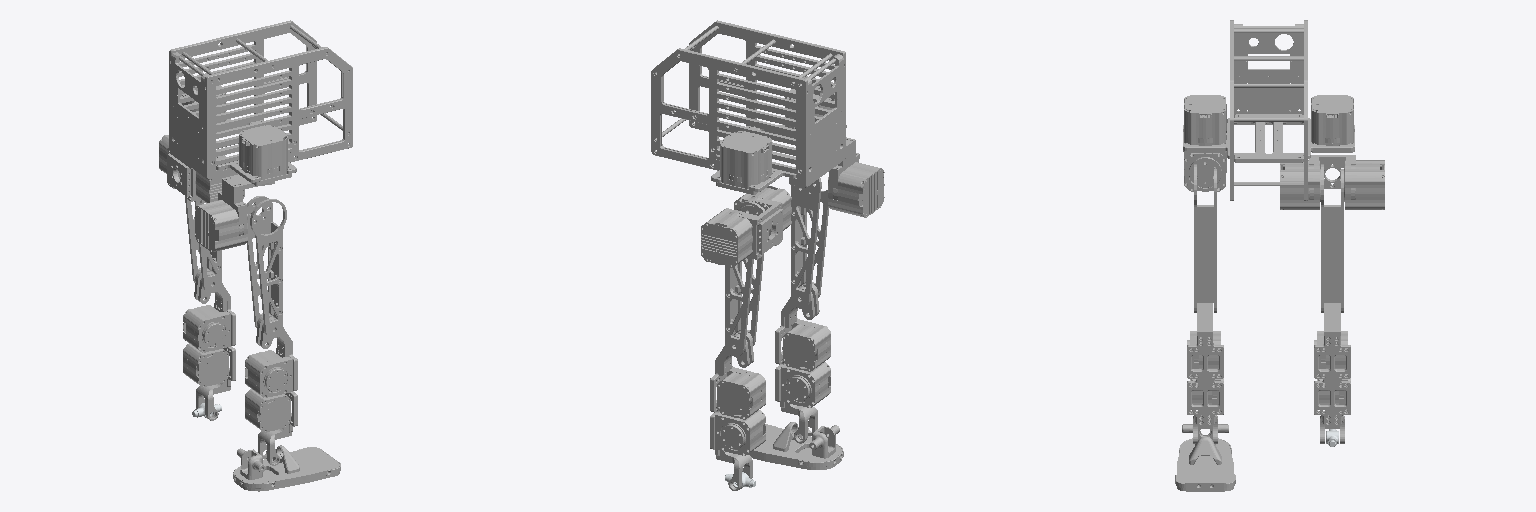
robot.urdf — pai_2_12_240715:
<?xml version="1.0" encoding="utf-8"?>
<!--
This URDF was automatically created by SolidWorks to URDF Exporter! Originally created by [author] ([email redacted])
Commit Version: 1.6.0-4-g7f85cfe  Build Version: 1.6.7995.38578
For more information, please see http://wiki.ros.org/sw_urdf_exporter
-->
<robot name="pai_2_12_240715">
	<link name="base_link">
		<inertial>
			<origin xyz="0.02264846 -0.00004298 0.03856462" rpy="0 0 0" />
			<mass value="0.767987723282303" />
			<inertia ixx="0.00715641" ixy="-0.00000351" ixz="-0.00040457" iyy="0.00754610" iyz="0.00000400" izz="0.00985603" />
		</inertial>
		<visual>
			<origin xyz="0 0 0" rpy="0 0 0" />
			<geometry>
				<mesh filename="package://pai_2_12_240715/meshes/base_link.STL" />
			</geometry>
			<material name="">
				<color rgba="0.752941176470588 0.752941176470588 0.752941176470588 1" />
			</material>
		</visual>
		<collision>
			<origin xyz="0 0 0" rpy="0 0 0" />
			<geometry>
				<mesh filename="package://pai_2_12_240715/meshes/base_link.STL" />
			</geometry>
		</collision>
	</link>
	<link name="r_kuan_link">
		<inertial>
			<origin xyz="-0.05302 -6.9044E-05 -0.049742" rpy="0 0 0" />
			<mass value="0.41495" />
			<inertia ixx="0.00014662" ixy="3.1568E-08" ixz="1.0089E-06" iyy="9.0268E-05" iyz="-5.5058E-07" izz="9.3499E-05" />
		</inertial>
		<visual>
			<origin xyz="0 0 0" rpy="0 0 0" />
			<geometry>
				<mesh filename="package://pai_2_12_240715/meshes/r_kuan_link.STL" />
			</geometry>
			<material name="">
				<color rgba="0.75294 0.75294 0.75294 1" />
			</material>
		</visual>
		<collision>
			<origin xyz="0 0 0" rpy="0 0 0" />
			<geometry>
				<mesh filename="package://pai_2_12_240715/meshes/r_kuan_link.STL" />
			</geometry>
		</collision>
	</link>
	<joint name="r_kuan_joint" type="revolute">
		<origin xyz="-0.00312500000000175 -0.0749999999999948 -0.00900000000000054" rpy="0 0 0" />
		<parent link="base_link" />
		<child link="r_kuan_link" />
		<axis xyz="0 0 1" />
		<limit lower="-3.14" upper="3.14" effort="21" velocity="21" />
	</joint>
	<link name="r_kuan2_link">
		<inertial>
			<origin xyz="-0.00165182311958494 2.22472734678902E-11 9.01459013308153E-05" rpy="0 0 0" />
			<mass value="0.754052172373753" />
			<inertia ixx="0.000172300621783178" ixy="-1.00230457516306E-13" ixz="4.85738731803001E-08" iyy="0.000284991278195394" iyz="-6.30364775234662E-08" izz="0.000168111256664181" />
		</inertial>
		<visual>
			<origin xyz="0 0 0" rpy="0 0 0" />
			<geometry>
				<mesh filename="package://pai_2_12_240715/meshes/r_kuan2_link.STL" />
			</geometry>
			<material name="">
				<color rgba="0.752941176470588 0.752941176470588 0.752941176470588 1" />
			</material>
		</visual>
		<collision>
			<origin xyz="0 0 0" rpy="0 0 0" />
			<geometry>
				<mesh filename="package://pai_2_12_240715/meshes/r_kuan2_link.STL" />
			</geometry>
		</collision>
	</link>
	<joint name="r_kuan2_joint" type="revolute">
		<origin xyz="0 0 -0.0559999999999995" rpy="0 0 0" />
		<parent link="r_kuan_link" />
		<child link="r_kuan2_link" />
		<axis xyz="1 0 0" />
		<limit lower="-3.14" upper="3.14" effort="21" velocity="21" />
	</joint>
	<link name="r_thigh_link">
		<inertial>
			<origin xyz="0.00012218 -0.00135823 -0.06908333" rpy="0 0 0" />
			<mass value="0.21894101" />
			<inertia ixx="0.00076454" ixy="0.00000004" ixz="0.00000008" iyy="0.00077056" iyz="0.00002142" izz="0.00004054" />
		</inertial>
		<visual>
			<origin xyz="0 0 0" rpy="0 0 0" />
			<geometry>
				<mesh filename="package://pai_2_12_240715/meshes/r_thigh_link.STL" />
			</geometry>
			<material name="">
				<color rgba="0.752941176470588 0.752941176470588 0.752941176470588 1" />
			</material>
		</visual>
		<collision>
			<origin xyz="0 0 0" rpy="0 0 0" />
			<geometry>
				<mesh filename="package://pai_2_12_240715/meshes/r_thigh_link.STL" />
			</geometry>
		</collision>
	</link>
	<joint name="r_thigh_joint" type="revolute">
		<origin xyz="0 0 0" rpy="0 0 0" />
		<parent link="r_kuan2_link" />
		<child link="r_thigh_link" />
		<axis xyz="0 -1 0" />
		<limit lower="-3.14" upper="3.14" effort="21" velocity="21" />
	</joint>
	<link name="r_calf_link">
		<inertial>
			<origin xyz="-0.00242534 0.00004312 -0.09732545" rpy="0 0 0" />
			<mass value="0.94531081" />
			<inertia ixx="0.00125228" ixy="0.00000083" ixz="-0.00009452" iyy="0.00124644" iyz="-0.00006385" izz="0.00023470" />
		</inertial>
		<visual>
			<origin xyz="0 0 0" rpy="0 0 0" />
			<geometry>
				<mesh filename="package://pai_2_12_240715/meshes/r_calf_link.STL" />
			</geometry>
			<material name="">
				<color rgba="0.752941176470588 0.752941176470588 0.752941176470588 1" />
			</material>
		</visual>
		<collision>
			<origin xyz="0 0 0" rpy="0 0 0" />
			<geometry>
				<mesh filename="package://pai_2_12_240715/meshes/r_calf_link.STL" />
			</geometry>
		</collision>
	</link>
	<joint name="r_calf_joint" type="revolute">
		<origin xyz="0.00750000000000106 0 -0.149812382665787" rpy="0 0 0" />
		<parent link="r_thigh_link" />
		<child link="r_calf_link" />
		<axis xyz="0 1 0" />
		<limit lower="-3.14" upper="3.14" effort="21" velocity="21" />
	</joint>
	<link name="r_ankle_link">
		<inertial>
			<origin xyz="-1.6509E-07 -3.5454E-07 1.0424E-08" rpy="0 0 0" />
			<mass value="0.01180204" />
			<inertia ixx="0.00000047" ixy="8.2515E-14" ixz="-8.8688E-13" iyy="0.00000111" iyz="1.3362E-12" izz="0.00000121" />
		</inertial>
		<visual>
			<origin xyz="0 0 0" rpy="0 0 0" />
			<geometry>
				<mesh filename="package://pai_2_12_240715/meshes/r_ankle_link.STL" />
			</geometry>
			<material name="">
				<color rgba="0.89804 0.91765 0.92941 1" />
			</material>
		</visual>
		<collision>
			<origin xyz="0 0 0" rpy="0 0 0" />
			<geometry>
				<mesh filename="package://pai_2_12_240715/meshes/r_ankle_link.STL" />
			</geometry>
		</collision>
	</link>
	<joint name="r_ankle_joint" type="revolute">
		<origin xyz="0 0 -0.17495" rpy="0 0 0" />
		<parent link="r_calf_link" />
		<child link="r_ankle_link" />
		<axis xyz="0 -1 0" />
		<limit lower="-3.14" upper="3.14" effort="21" velocity="21" />
	</joint>
	<link name="r_foot_link">
		<inertial>
			<origin xyz="0.01979902 0.00000141 -0.02023932" rpy="0 0 0" />
			<mass value="0.18592619" />
			<inertia ixx="0.00006786" ixy="0.00000000" ixz="0.00001824" iyy="0.00024654" iyz="0.00000000" izz="0.00028950" />
		</inertial>
		<visual>
			<origin xyz="0 0 0" rpy="0 0 0" />
			<geometry>
				<mesh filename="package://pai_2_12_240715/meshes/r_foot_link.STL" />
			</geometry>
			<material name="">
				<color rgba="0.752941176470588 0.752941176470588 0.752941176470588 1" />
			</material>
		</visual>
		<collision>
			<origin xyz="0 0 0" rpy="0 0 0" />
			<geometry>
				<mesh filename="package://pai_2_12_240715/meshes/r_foot_link.STL" />
			</geometry>
		</collision>
	</link>
	<joint name="r_foot_joint" type="revolute">
		<origin xyz="0 0 0" rpy="0 0 0" />
		<parent link="r_ankle_link" />
		<child link="r_foot_link" />
		<axis xyz="-1 0 0" />
		<limit lower="-3.14" upper="3.14" effort="21" velocity="21" />
	</joint>
	<link name="l_kuan_link">
		<inertial>
			<origin xyz="-0.05302 -6.9044E-05 -0.049742" rpy="0 0 0" />
			<mass value="0.41495" />
			<inertia ixx="0.00014662" ixy="3.1568E-08" ixz="1.0089E-06" iyy="9.0268E-05" iyz="-5.5058E-07" izz="9.3499E-05" />
		</inertial>
		<visual>
			<origin xyz="0 0 0" rpy="0 0 0" />
			<geometry>
				<mesh filename="package://pai_2_12_240715/meshes/l_kuan_link.STL" />
			</geometry>
			<material name="">
				<color rgba="0.75294 0.75294 0.75294 1" />
			</material>
		</visual>
		<collision>
			<origin xyz="0 0 0" rpy="0 0 0" />
			<geometry>
				<mesh filename="package://pai_2_12_240715/meshes/l_kuan_link.STL" />
			</geometry>
		</collision>
	</link>
	<joint name="l_kuan_joint" type="revolute">
		<origin xyz="-0.00312500000000005 0.0750000000000056 -0.00900000000000056" rpy="0 0 0" />
		<parent link="base_link" />
		<child link="l_kuan_link" />
		<axis xyz="0 0 1" />
		<limit lower="-3.14" upper="3.14" effort="21" velocity="21" />
	</joint>
	<link name="l_kuan2_link">
		<inertial>
			<origin xyz="-0.00165182311958486 2.2247287345678E-11 9.01459013308153E-05" rpy="0 0 0" />
			<mass value="0.754052172373753" />
			<inertia ixx="0.000172300621783178" ixy="-1.00230445305323E-13" ixz="4.85738731803103E-08" iyy="0.000284991278195395" iyz="-6.30364775234683E-08" izz="0.000168111256664181" />
		</inertial>
		<visual>
			<origin xyz="0 0 0" rpy="0 0 0" />
			<geometry>
				<mesh filename="package://pai_2_12_240715/meshes/l_kuan2_link.STL" />
			</geometry>
			<material name="">
				<color rgba="0.752941176470588 0.752941176470588 0.752941176470588 1" />
			</material>
		</visual>
		<collision>
			<origin xyz="0 0 0" rpy="0 0 0" />
			<geometry>
				<mesh filename="package://pai_2_12_240715/meshes/l_kuan2_link.STL" />
			</geometry>
		</collision>
	</link>
	<joint name="l_kuan2_joint" type="revolute">
		<origin xyz="0 0 -0.056" rpy="0 0 0" />
		<parent link="l_kuan_link" />
		<child link="l_kuan2_link" />
		<axis xyz="1 0 0" />
		<limit lower="-3.14" upper="3.14" effort="21" velocity="21" />
	</joint>
	<link name="l_thigh_link">
		<inertial>
			<origin xyz="0.00012218 -0.00135823 -0.06908333" rpy="0 0 0" />
			<mass value="0.21894101" />
			<inertia ixx="0.00076454" ixy="0.00000004" ixz="0.00000008" iyy="0.00077056" iyz="0.00002142" izz="0.00004054" />
		</inertial>
		<visual>
			<origin xyz="0 0 0" rpy="0 0 0" />
			<geometry>
				<mesh filename="package://pai_2_12_240715/meshes/l_thigh_link.STL" />
			</geometry>
			<material name="">
				<color rgba="0.752941176470588 0.752941176470588 0.752941176470588 1" />
			</material>
		</visual>
		<collision>
			<origin xyz="0 0 0" rpy="0 0 0" />
			<geometry>
				<mesh filename="package://pai_2_12_240715/meshes/l_thigh_link.STL" />
			</geometry>
		</collision>
	</link>
	<joint name="l_thigh_joint" type="revolute">
		<origin xyz="0 0 0" rpy="0 0 0" />
		<parent link="l_kuan2_link" />
		<child link="l_thigh_link" />
		<axis xyz="0 -1 0" />
		<limit lower="-3.14" upper="3.14" effort="21" velocity="21" />
	</joint>
	<link name="l_calf_link">
		<inertial>
			<origin xyz="-0.00242534 0.00004312 -0.09732545" rpy="0 0 0" />
			<mass value="0.94531081" />
			<inertia ixx="0.00125228" ixy="0.00000083" ixz="-0.00009452" iyy="0.00124644" iyz="-0.00006385" izz="0.00023470" />
		</inertial>
		<visual>
			<origin xyz="0 0 0" rpy="0 0 0" />
			<geometry>
				<mesh filename="package://pai_2_12_240715/meshes/l_calf_link.STL" />
			</geometry>
			<material name="">
				<color rgba="0.75294 0.75294 0.75294 1" />
			</material>
		</visual>
		<collision>
			<origin xyz="0 0 0" rpy="0 0 0" />
			<geometry>
				<mesh filename="package://pai_2_12_240715/meshes/l_calf_link.STL" />
			</geometry>
		</collision>
	</link>
	<joint name="l_calf_joint" type="revolute">
		<origin xyz="0.00750000000000105 0 -0.149812382665786" rpy="0 0 0" />
		<parent link="l_thigh_link" />
		<child link="l_calf_link" />
		<axis xyz="0 1 0" />
		<limit lower="-3.14" upper="3.14" effort="21" velocity="21" />
	</joint>
	<link name="l_ankle_link">
		<inertial>
			<origin xyz="-1.6509E-07 -3.5454E-07 1.0424E-08" rpy="0 0 0" />
			<mass value="0.01180204" />
			<inertia ixx="0.00000047" ixy="8.2515E-14" ixz="-8.8688E-13" iyy="0.00000111" iyz="1.3362E-12" izz="0.00000121" />
		</inertial>
		<visual>
			<origin xyz="0 0 0" rpy="0 0 0" />
			<geometry>
				<mesh filename="package://pai_2_12_240715/meshes/l_ankle_link.STL" />
			</geometry>
			<material name="">
				<color rgba="0.898039215686275 0.917647058823529 0.929411764705882 1" />
			</material>
		</visual>
		<collision>
			<origin xyz="0 0 0" rpy="0 0 0" />
			<geometry>
				<mesh filename="package://pai_2_12_240715/meshes/l_ankle_link.STL" />
			</geometry>
		</collision>
	</link>
	<joint name="l_ankle_joint" type="revolute">
		<origin xyz="0 0 -0.17495" rpy="0 0 0" />
		<parent link="l_calf_link" />
		<child link="l_ankle_link" />
		<axis xyz="0 -1 0" />
		<limit lower="-3.14" upper="3.14" effort="21" velocity="21" />
	</joint>
	<link name="l_foot_link">
		<inertial>
			<origin xyz="0.01979902 0.00000141 -0.02023932" rpy="0 0 0" />
			<mass value="0.18592619" />
			<inertia ixx="0.00006786" ixy="0.00000000" ixz="0.00001824" iyy="0.00024654" iyz="0.00000000" izz="0.00028950" />
		</inertial>
		<visual>
			<origin xyz="0 0 0" rpy="0 0 0" />
			<geometry>
				<mesh filename="package://pai_2_12_240715/meshes/l_foot_link.STL" />
			</geometry>
			<material name="">
				<color rgba="0.752941176470588 0.752941176470588 0.752941176470588 1" />
			</material>
		</visual>
		<collision>
			<origin xyz="0 0 0" rpy="0 0 0" />
			<geometry>
				<mesh filename="package://pai_2_12_240715/meshes/l_foot_link.STL" />
			</geometry>
		</collision>
	</link>
	<joint name="l_foot_joint" type="revolute">
		<origin xyz="0 0 0" rpy="0 0 0" />
		<parent link="l_ankle_link" />
		<child link="l_foot_link" />
		<axis xyz="-1 0 0" />
		<limit lower="-3.14" upper="3.14" effort="21" velocity="21" />
	</joint>
</robot>

--- Render facts (derived) ---
The picture shows the robot from 3 angles, left to right: view 1: azimuth 30°, elevation 25°; view 2: azimuth 150°, elevation 25°; view 3: azimuth 270°, elevation 25°; orthographic projection.
Robot: pai_2_12_240715 — 13 links, 12 joints (12 revolute); root link base_link; default pose: every joint at zero.
Visible links, largest first — view 1: base_link, r_calf_link, l_calf_link, r_thigh_link, r_foot_link, r_kuan_link, l_kuan2_link, l_thigh_link; view 2: base_link, r_calf_link, l_calf_link, l_kuan2_link, r_thigh_link, r_foot_link, r_kuan_link, l_thigh_link; view 3: base_link, l_kuan2_link, l_calf_link, r_calf_link, r_foot_link, r_thigh_link, l_thigh_link, r_kuan_link.
Boxes of the visible links, x1=… form: base_link: x1=169, y1=20, x2=352, y2=185; r_calf_link: x1=245, y1=314, x2=297, y2=465; l_calf_link: x1=183, y1=269, x2=235, y2=420; r_thigh_link: x1=247, y1=196, x2=286, y2=338; r_foot_link: x1=233, y1=445, x2=340, y2=491; r_kuan_link: x1=195, y1=174, x2=274, y2=252; l_kuan2_link: x1=159, y1=135, x2=244, y2=202; l_thigh_link: x1=185, y1=196, x2=221, y2=292; base_link: x1=651, y1=20, x2=846, y2=194; r_calf_link: x1=775, y1=283, x2=830, y2=443; l_calf_link: x1=710, y1=331, x2=765, y2=490; l_kuan2_link: x1=701, y1=186, x2=791, y2=267; r_thigh_link: x1=791, y1=178, x2=828, y2=308; r_foot_link: x1=748, y1=422, x2=843, y2=469; r_kuan_link: x1=828, y1=137, x2=884, y2=217; l_thigh_link: x1=725, y1=201, x2=770, y2=356; base_link: x1=1183, y1=20, x2=1354, y2=200; l_kuan2_link: x1=1280, y1=155, x2=1384, y2=209; l_calf_link: x1=1314, y1=303, x2=1350, y2=443; r_calf_link: x1=1187, y1=303, x2=1223, y2=443; r_foot_link: x1=1175, y1=424, x2=1235, y2=491; r_thigh_link: x1=1194, y1=164, x2=1216, y2=312; l_thigh_link: x1=1321, y1=164, x2=1343, y2=312; r_kuan_link: x1=1184, y1=152, x2=1226, y2=191.
Size in the robot's own frame: 0.225 by 0.247 by 0.5417 metres.
9 mesh visuals loaded from 13 distinct referenced files (9 binary STL); not drawn: 4 (reference not matched to a file when rendering).
